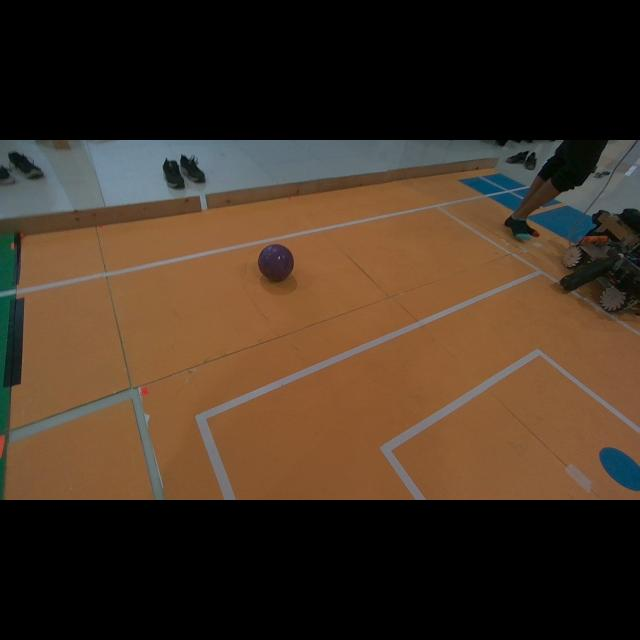P: (259, 244, 294, 281)
